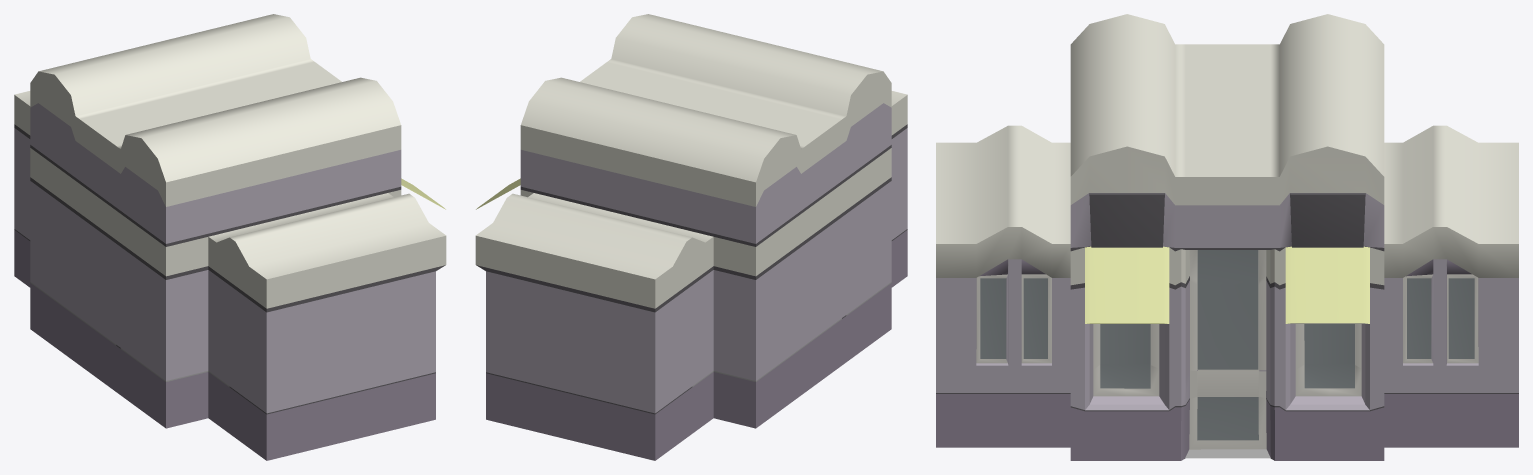
Rendered from shopfront_building 1.fbx.
3 renders of one model, left to right at view 1: azimuth 30°, elevation 25°; view 2: azimuth 150°, elevation 25°; view 3: azimuth 270°, elevation 25°, orthographic. The views are drawn at different scales.
Parts seen in each view (by area): view 1: shop_front; view 2: shop_front; view 3: shop_front.
Part boxes in pixels (x1=…): shop_front: x1=14, y1=14, x2=446, y2=460; shop_front: x1=475, y1=14, x2=907, y2=460; shop_front: x1=936, y1=14, x2=1518, y2=460.
Size of the model in its own units: 427 by 387 by 651.
